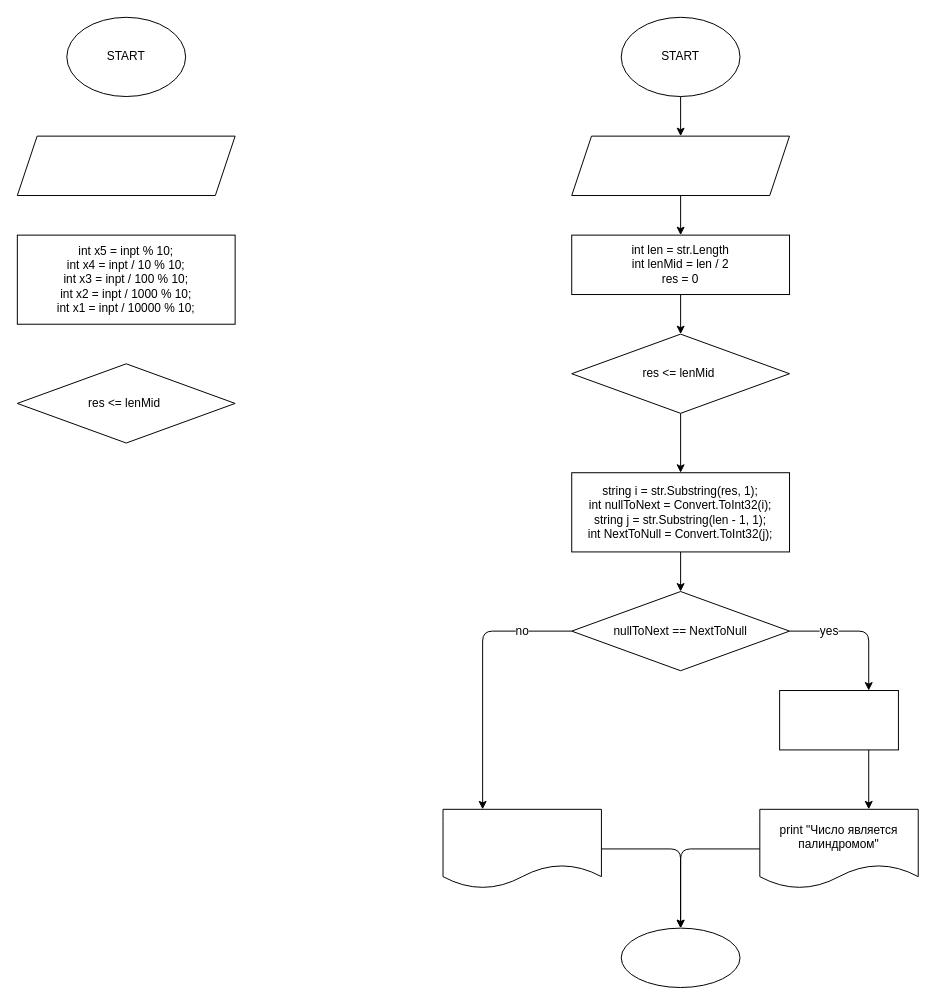
Some shapes in this 936 by 1005 pixel diagram are drawn without their labels. Each missing label, with the box of its shape:
FINISH: (620, 927, 740, 988)
input int inpt: (16, 135, 235, 196)
input string str: (571, 135, 790, 196)
print "Число не является палиндромом": (442, 808, 601, 889)
res++; len--;: (779, 690, 898, 750)
